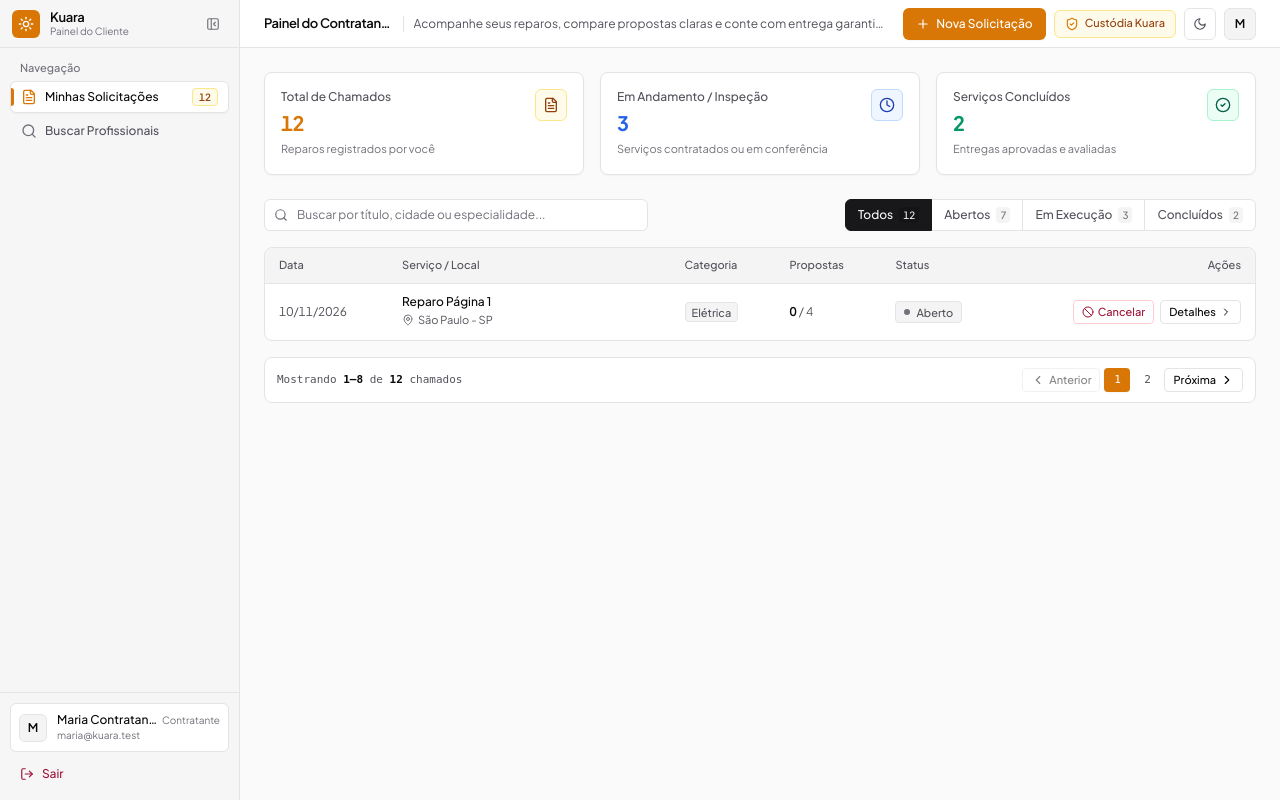
Scenario: Pagination UI & Lazy Server-Side Dashboard Fetching › ClientDashboard server pagination & lazy showcase › loads orders paginated without fetching showcase until showcase tab is visited
Expected: the link "Reparo Página 1" is shown, [402, 294, 491, 310]
Expected: the navigation bar named "Paginação" shows "Mostrando 1–8 de 12 chamados", [264, 357, 1256, 403]
Navigate to page 2
Click the button with aria-label "Próxima página" at [1204, 380], box [1164, 368, 1243, 392]
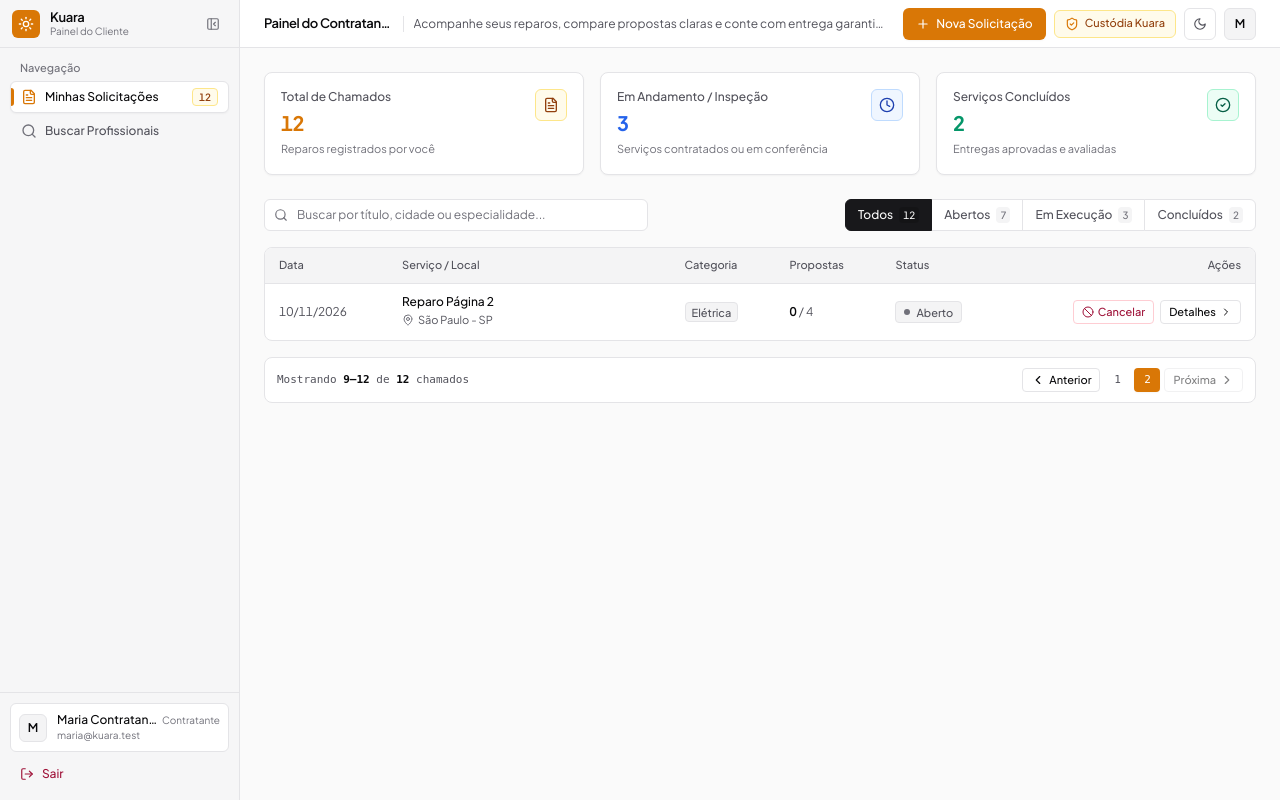
Expected: the link "Reparo Página 2" is shown, [402, 294, 494, 310]
Click the button "Buscar Profissionais" at [120, 130], box [10, 114, 229, 146]
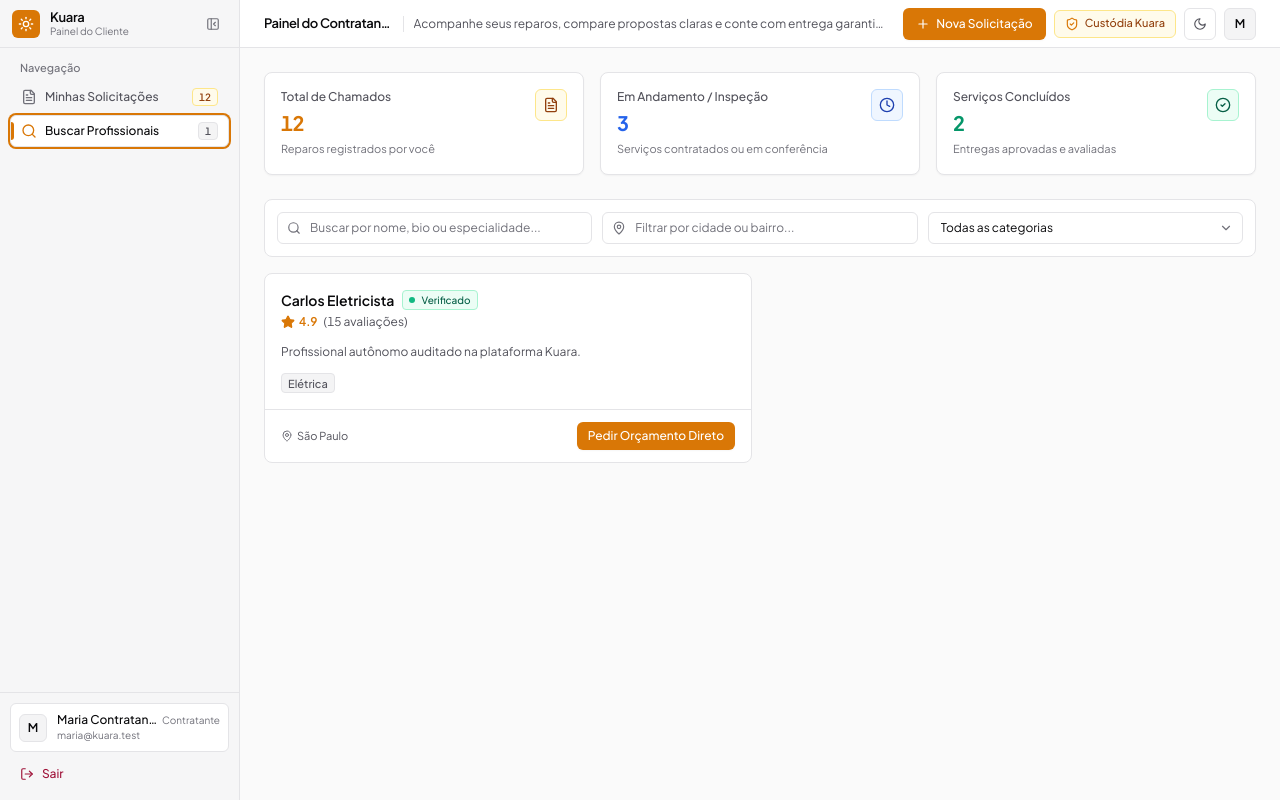
Expected: the text "Carlos Eletricista" is shown, [281, 290, 394, 310]
